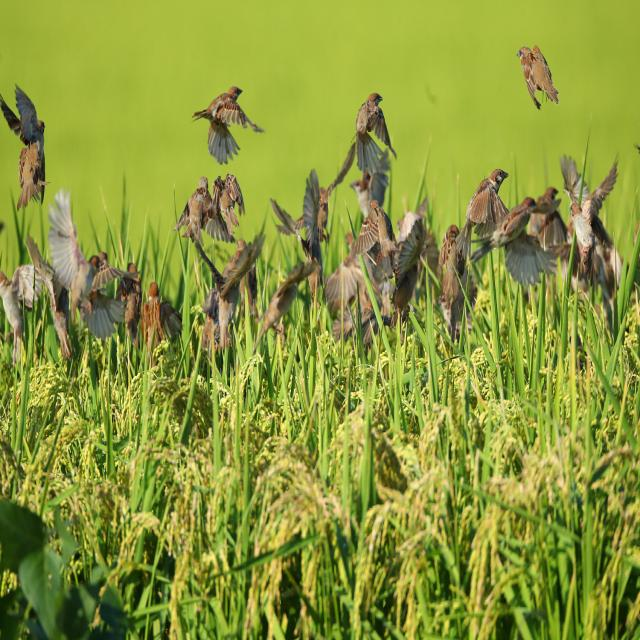bird: (44, 197, 128, 336), (276, 140, 356, 240), (472, 197, 558, 284), (191, 80, 259, 159), (455, 165, 511, 247), (2, 80, 48, 164), (175, 175, 229, 246), (0, 262, 38, 362), (354, 88, 398, 174), (440, 222, 475, 330), (517, 40, 564, 112), (142, 281, 182, 363), (353, 194, 396, 260), (528, 184, 564, 247), (18, 135, 48, 210), (571, 204, 602, 276), (211, 172, 246, 230)
